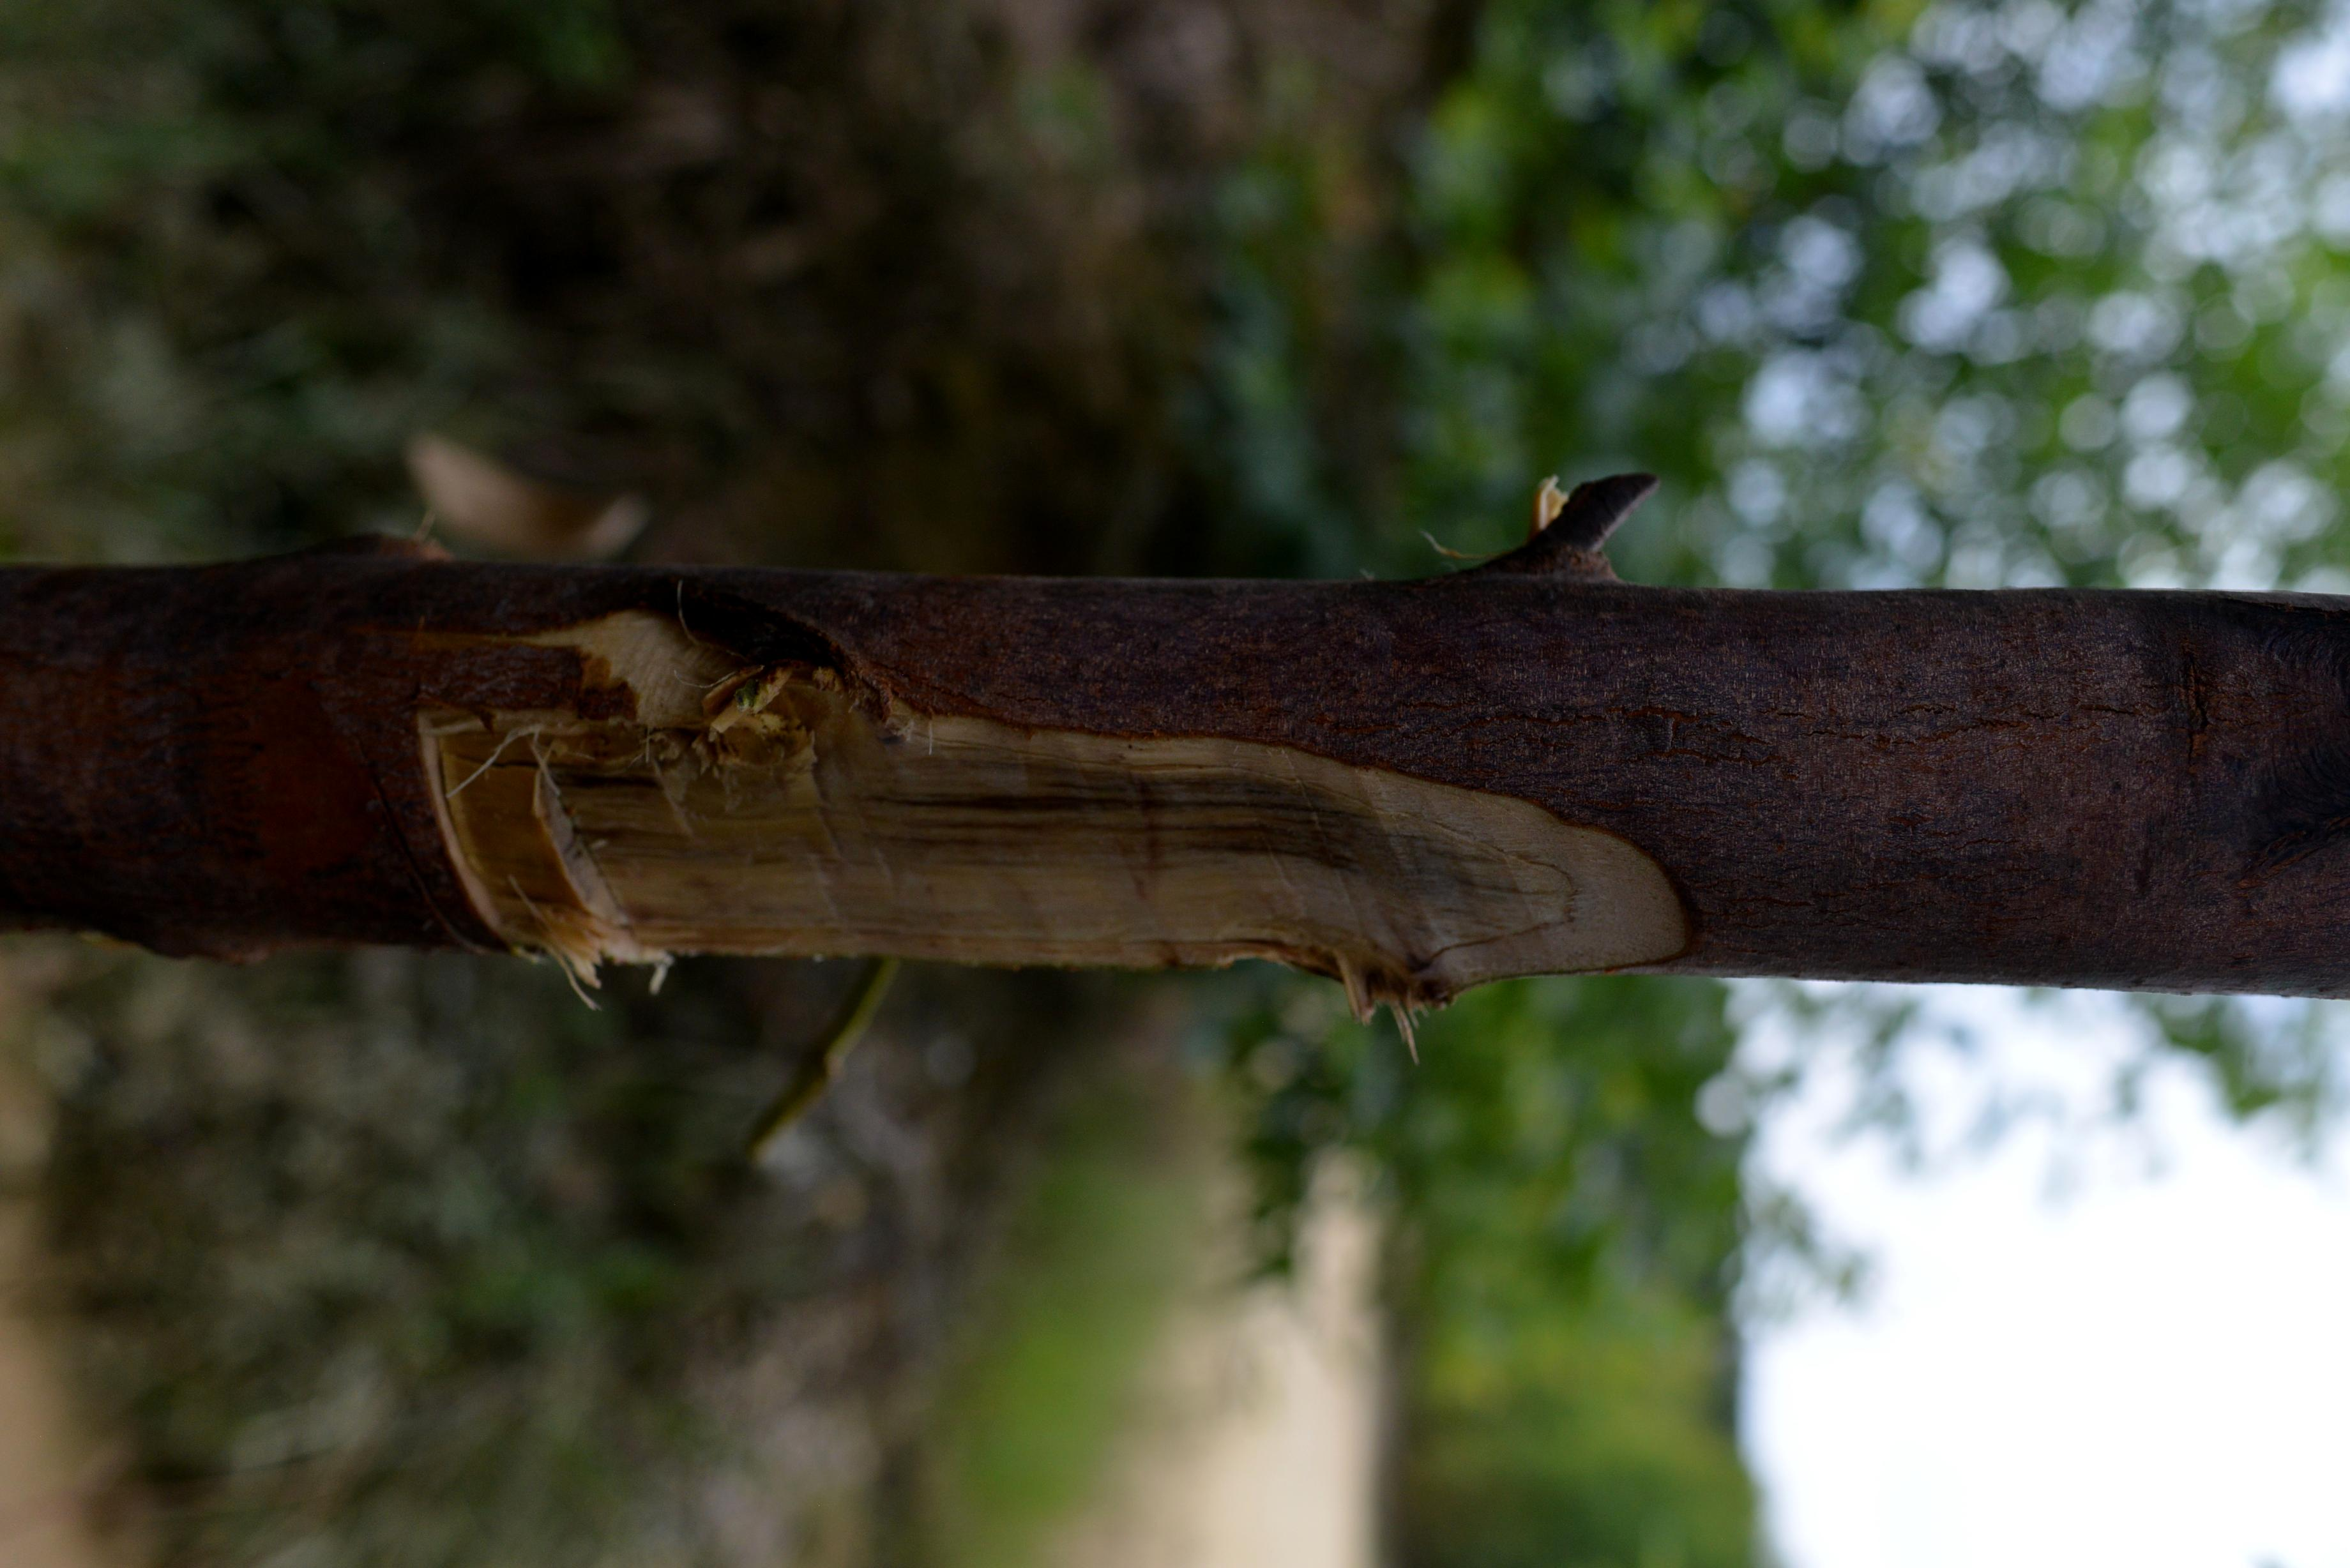Ralstonia: (441, 674, 1685, 968)
